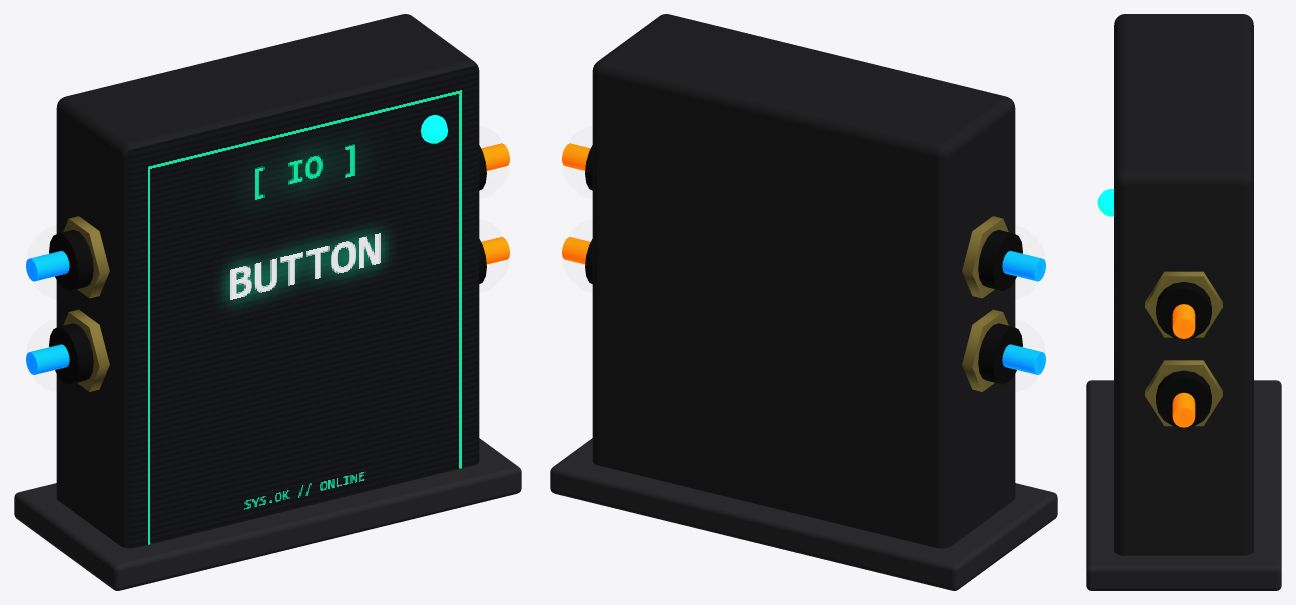
The model's file is io_button.glb.
The picture shows the model from 3 angles, left to right: view 1: azimuth 30°, elevation 25°; view 2: azimuth 150°, elevation 25°; view 3: azimuth 270°, elevation 25°; orthographic projection. The views are drawn at different scales.
Visible parts, largest first — view 1: chassis, bracket, socket (×2), hex_nut (×2), pin (×2); view 2: chassis, bracket, socket (×2), hex_nut (×2), pin (×2); view 3: chassis, bracket, socket (×2), hex_nut (×2), pin (×2), status_led.
Part boxes in pixels (x1,y1,x2,y2): chassis: (56, 14, 479, 548); bracket: (14, 438, 521, 590); socket (×2): (49, 229, 93, 384); hex_nut (×2): (63, 216, 109, 391); pin (×2): (26, 251, 69, 374); chassis: (592, 14, 1015, 548); bracket: (550, 438, 1057, 590); socket (×2): (978, 229, 1022, 384); hex_nut (×2): (962, 216, 1008, 391); pin (×2): (1002, 251, 1045, 374); chassis: (1114, 14, 1253, 555); bracket: (1086, 380, 1281, 590); socket (×2): (1156, 282, 1211, 427); hex_nut (×2): (1145, 271, 1222, 426); pin (×2): (1172, 304, 1195, 427); status_led: (1097, 188, 1113, 216).
Bounding box in the file's own units: 1.86 × 1.6 × 0.7.
12 materials, 1 textured.
